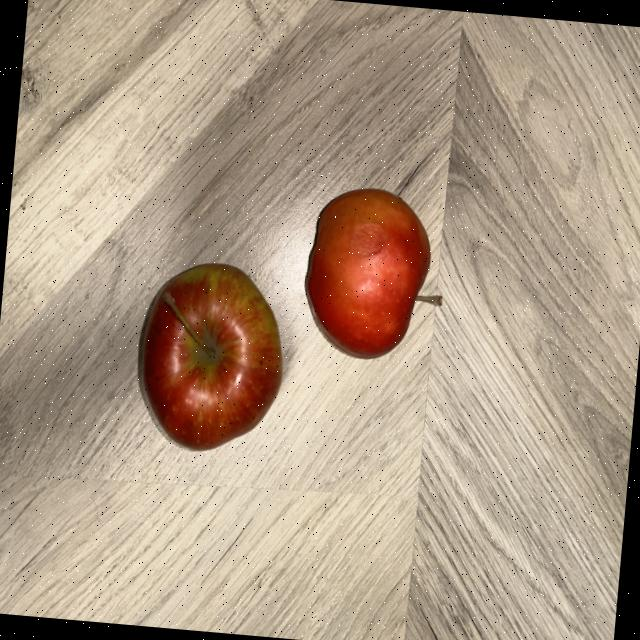apple: (135, 261, 281, 452), (301, 187, 428, 359)
